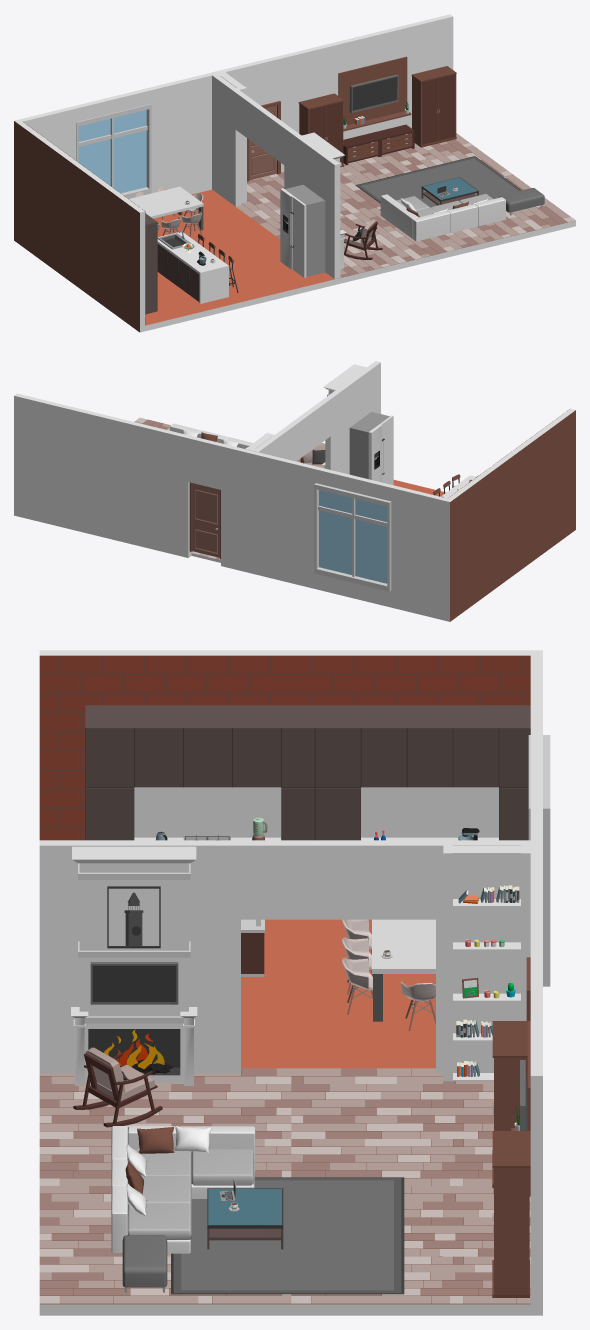
Rendered from room_23.glb.
3 renders of one model, top to bottom at view 1: azimuth 30°, elevation 25°; view 2: azimuth 150°, elevation 25°; view 3: azimuth 270°, elevation 25°, orthographic. The views are drawn at different scales.
Visible parts, largest first — view 1: Walls_009.003, Walls_043.001, Walls_006.023, Walls_006.025, window_019.004, Walls_006.011, kitchen_item_033.002, sofa_027.001, carpet_004.002, floor_018.003, kitchen_item_018.001, closet_026.001 (+22 smaller); view 2: Walls_006.023, Walls_009.003, Walls_006.025, window_019.004, Walls_006.010, Walls_006.011, kitchen_item_033.002, Walls_006.013, door_009.001, Walls_006.027, Walls_006.026, Walls_006.024 (+5 smaller); view 3: kitchen_item_051.001, tv_wall_006.001, floor_018.004, kitchen_item_051.002, Walls_043.001, Walls_006.011, carpet_004.002, wall_005.002, floor_018.003, Walls_006.013, Walls_006.022, Walls_009.002 (+24 smaller).
Boxes of the visible parts, x1,y1,x2,y2 form: Walls_009.003: [14, 119, 145, 332]; Walls_043.001: [145, 189, 335, 331]; Walls_006.023: [276, 14, 453, 172]; Walls_006.025: [148, 65, 245, 194]; window_019.004: [76, 104, 151, 198]; Walls_006.011: [284, 127, 340, 278]; kitchen_item_033.002: [280, 184, 325, 277]; sofa_027.001: [380, 194, 505, 241]; carpet_004.002: [355, 156, 521, 207]; floor_018.003: [272, 206, 454, 277]; kitchen_item_018.001: [157, 231, 228, 303]; closet_026.001: [411, 66, 456, 147]; Walls_006.023: [14, 393, 191, 557]; Walls_009.003: [444, 408, 575, 621]; Walls_006.025: [221, 444, 318, 589]; window_019.004: [314, 483, 391, 591]; Walls_006.010: [390, 485, 447, 620]; Walls_006.011: [325, 361, 380, 474]; kitchen_item_033.002: [349, 412, 393, 485]; Walls_006.013: [277, 398, 330, 461]; door_009.001: [192, 483, 219, 557]; Walls_006.027: [188, 436, 223, 489]; Walls_006.026: [316, 467, 392, 500]; Walls_006.024: [316, 574, 389, 607]; kitchen_item_051.001: [85, 705, 315, 840]; tv_wall_006.001: [71, 846, 197, 1085]; floor_018.004: [291, 1068, 493, 1185]; kitchen_item_051.002: [315, 705, 530, 840]; Walls_043.001: [241, 919, 435, 1069]; Walls_006.011: [39, 840, 240, 1073]; carpet_004.002: [169, 1177, 405, 1294]; wall_005.002: [39, 656, 291, 840]; floor_018.003: [39, 1068, 291, 1185]; Walls_006.013: [241, 840, 435, 919]; Walls_006.022: [134, 787, 498, 839]; Walls_009.002: [39, 1070, 530, 1315].
Bounding box in the file's own units: 16 × 4.21 × 8.12.
Materials: 1 (1 with a texture image).
